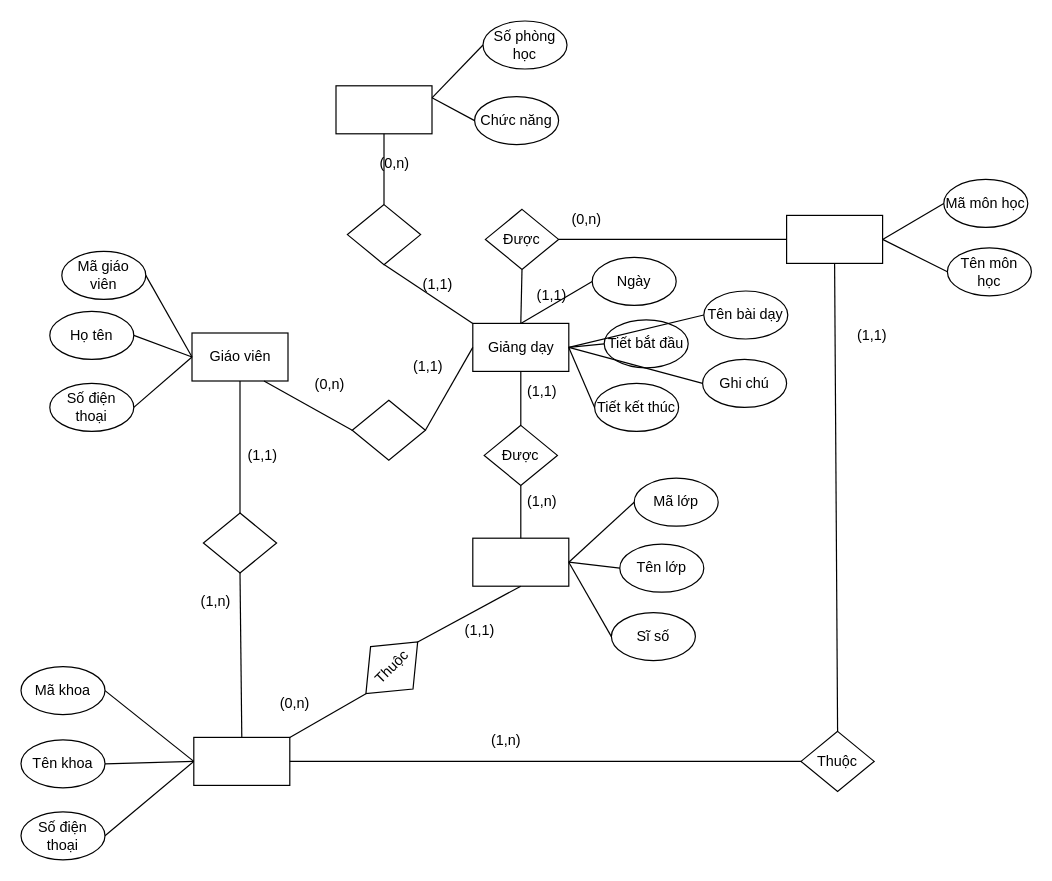
This 1052x881 diagram has some shape labels left out. The centre of each missing label's shape, as x and y in pixels:
Dạy: the point at 388,429
Khoa: the point at 241,760
Lớp: the point at 520,561
Môn học: the point at 834,238
Phòng học: the point at 383,109
Quản lý: the point at 239,542
Tổ chức: the point at 383,234
